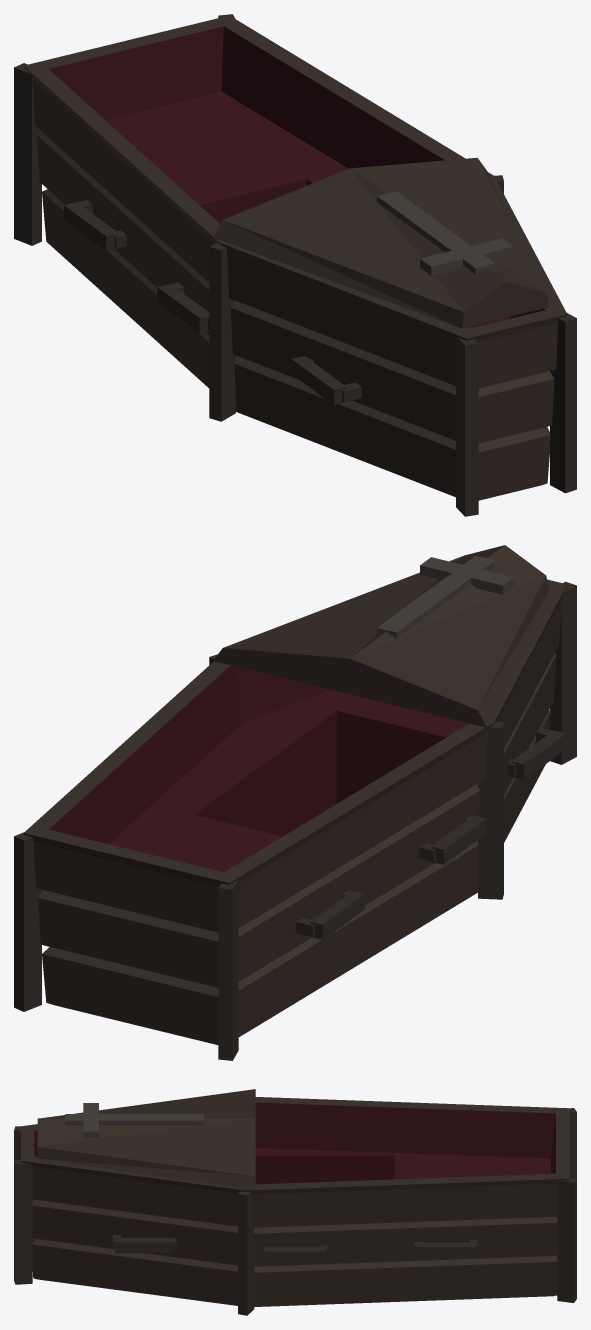
File: CoffinBody.fbx
3 views of the same model, one above another, from view 1: azimuth 30°, elevation 25°; view 2: azimuth 150°, elevation 25°; view 3: azimuth 270°, elevation 25° (orthographic). The views are drawn at different scales.
Parts seen in each view (by area): view 1: CoffinBody; view 2: CoffinBody; view 3: CoffinBody.
Part boxes in pixels (bbox=[...]): CoffinBody: bbox=[14, 14, 576, 516]; CoffinBody: bbox=[14, 545, 576, 1060]; CoffinBody: bbox=[14, 1089, 576, 1315].
Size of the model in its own units: 6 by 4.18 by 14.2.
